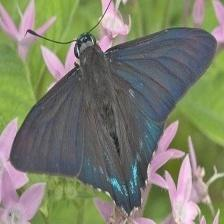butterfly: (10, 29, 217, 214)
